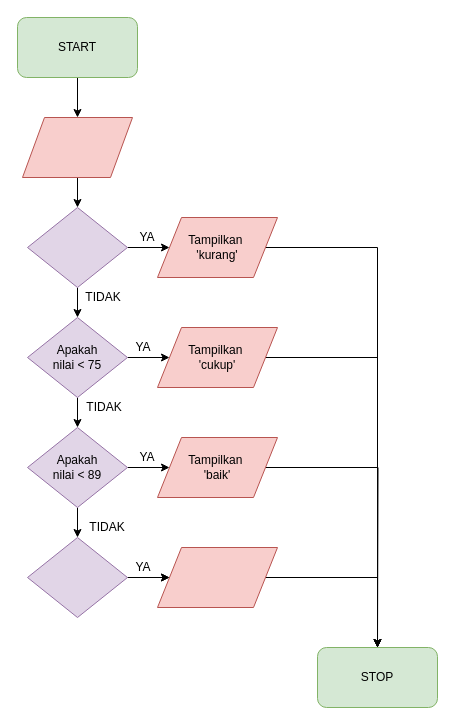
This 455x725 diagram has some shape labels left out. The box of each missing label's shape, as (x1, y1, x2, y2) in pixels:
Apakah nilai < 60: (26, 206, 128, 288)
Apakah nilai <= 100: (26, 536, 128, 618)
Masukan nilai: (22, 116, 132, 178)
Tampilkan 'sangat baik': (156, 546, 278, 608)
